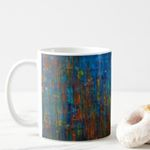cups: (2, 45, 116, 141)
